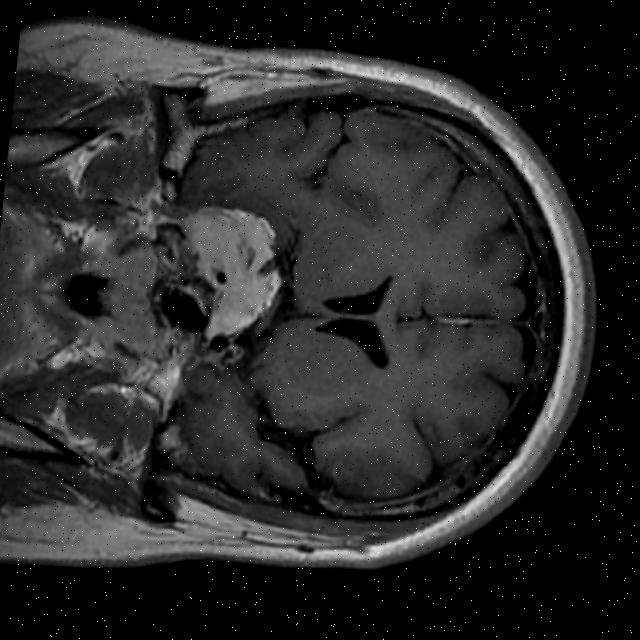Meningioma: (169, 201, 290, 345)
